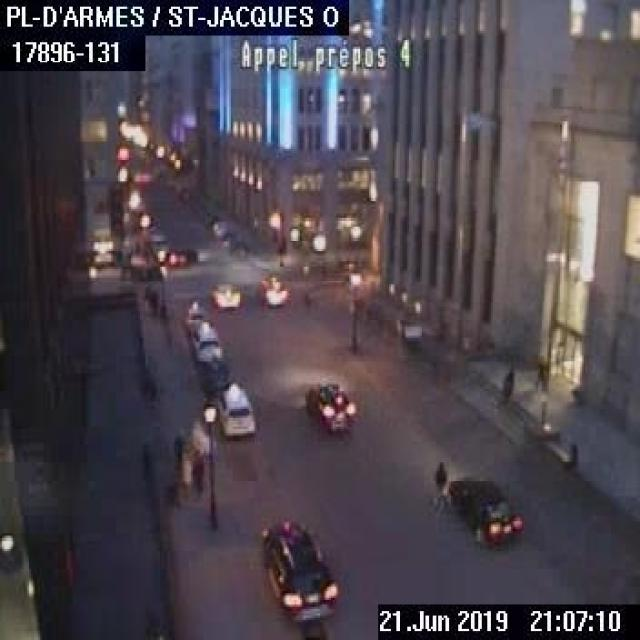pedestrian: (431, 458, 445, 509), (498, 364, 513, 409), (178, 435, 190, 491), (191, 442, 202, 492), (531, 353, 545, 389), (190, 418, 203, 453)
vehicle: (260, 516, 338, 614), (448, 476, 522, 546), (304, 382, 356, 432), (215, 380, 255, 436), (191, 319, 221, 362), (200, 352, 230, 390), (257, 272, 287, 304), (181, 299, 208, 334), (211, 280, 240, 307), (168, 246, 186, 264)
